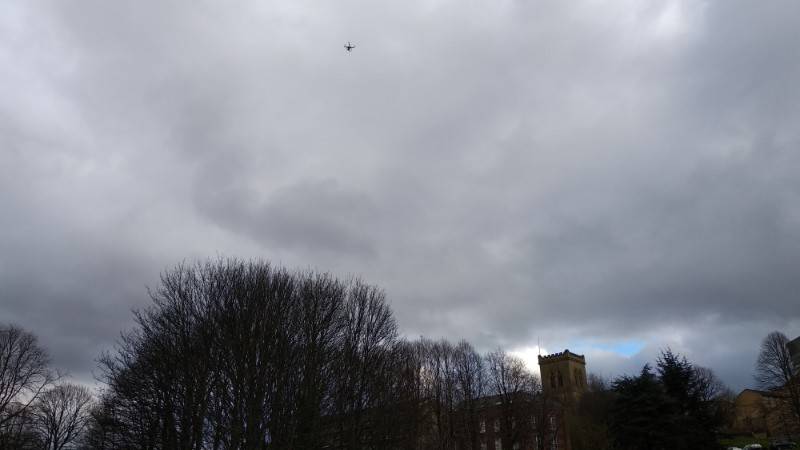drone: (344, 41, 355, 51)
